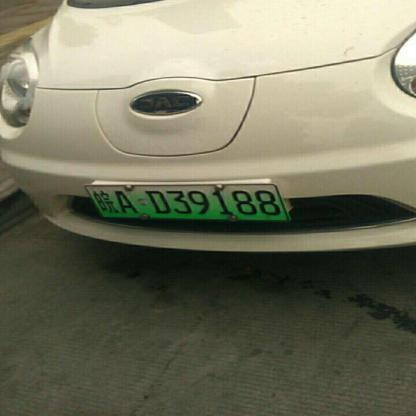lp: (85, 185, 288, 221)
